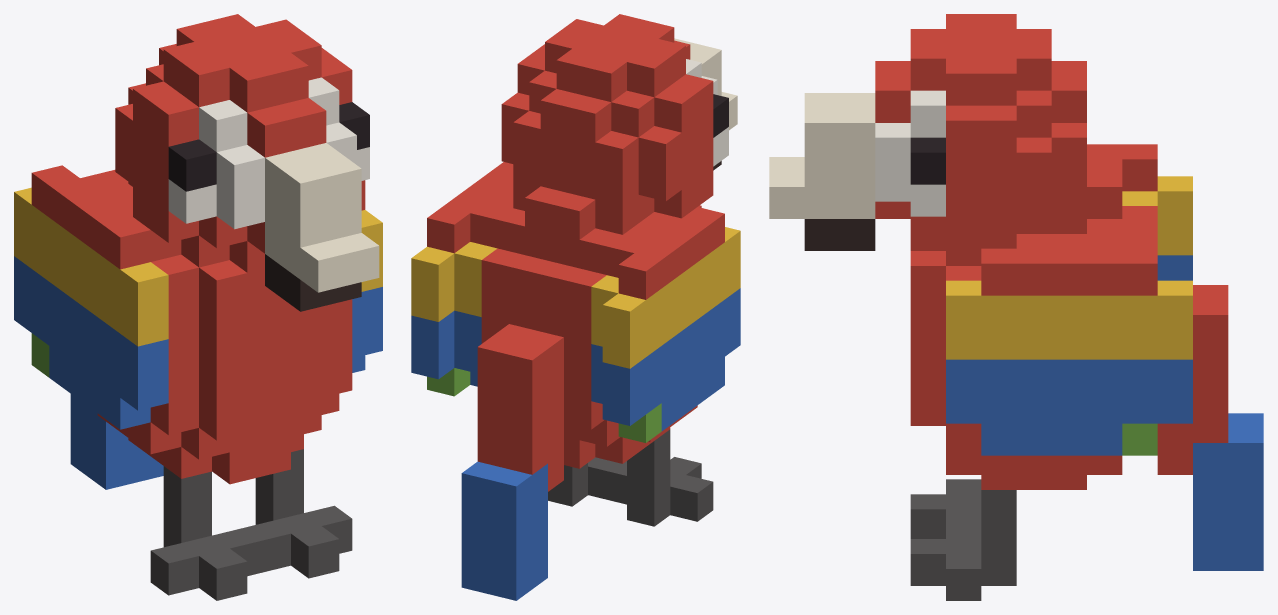
File: parrot.glb
3 renders of one model, left to right at view 1: azimuth 30°, elevation 25°; view 2: azimuth 150°, elevation 25°; view 3: azimuth 270°, elevation 25°, orthographic. The views are drawn at different scales.
Parts seen in each view (by area): view 1: parrot; view 2: parrot; view 3: parrot.
Part boxes in pixels (x1,y1,x2,y2): parrot: [14, 14, 382, 600]; parrot: [411, 14, 740, 600]; parrot: [769, 14, 1263, 600].
Bounding box in the file's own units: 0.8 × 1.6 × 1.4.
1 material, 1 textured.
